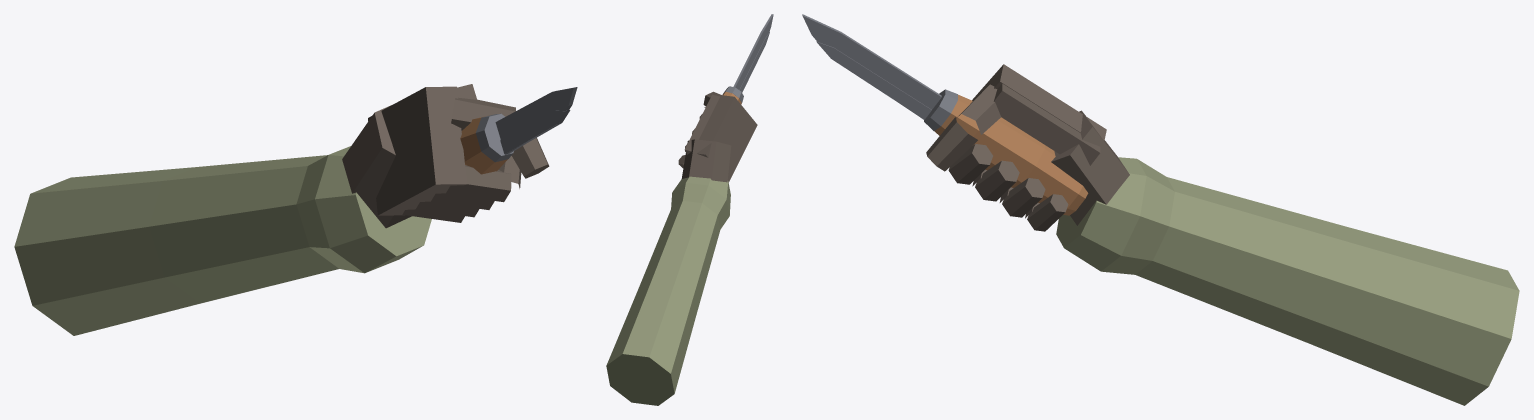
File: knife.glb
3 views of the same model, side by side, from view 1: azimuth 30°, elevation 25°; view 2: azimuth 150°, elevation 25°; view 3: azimuth 270°, elevation 25° (orthographic). The views are drawn at different scales.
Parts seen in each view (by area): view 1: arm_r, hand_r, blade, handle; view 2: arm_r, hand_r, blade; view 3: arm_r, hand_r, blade, handle.
Boxes of the visible parts, left/top/right/bottom form: arm_r: left=14, top=146, right=431, bottom=335; hand_r: left=342, top=84, right=549, bottom=228; blade: left=476, top=87, right=577, bottom=162; handle: left=460, top=115, right=507, bottom=174; arm_r: left=606, top=176, right=730, bottom=405; hand_r: left=678, top=91, right=757, bottom=182; blade: left=723, top=14, right=773, bottom=103; arm_r: left=1056, top=157, right=1519, bottom=405; hand_r: left=926, top=64, right=1129, bottom=231; blade: left=802, top=14, right=957, bottom=130; handle: left=934, top=94, right=1088, bottom=215.
Size of the model in its own units: 0.1527 by 0.309 by 0.467.
